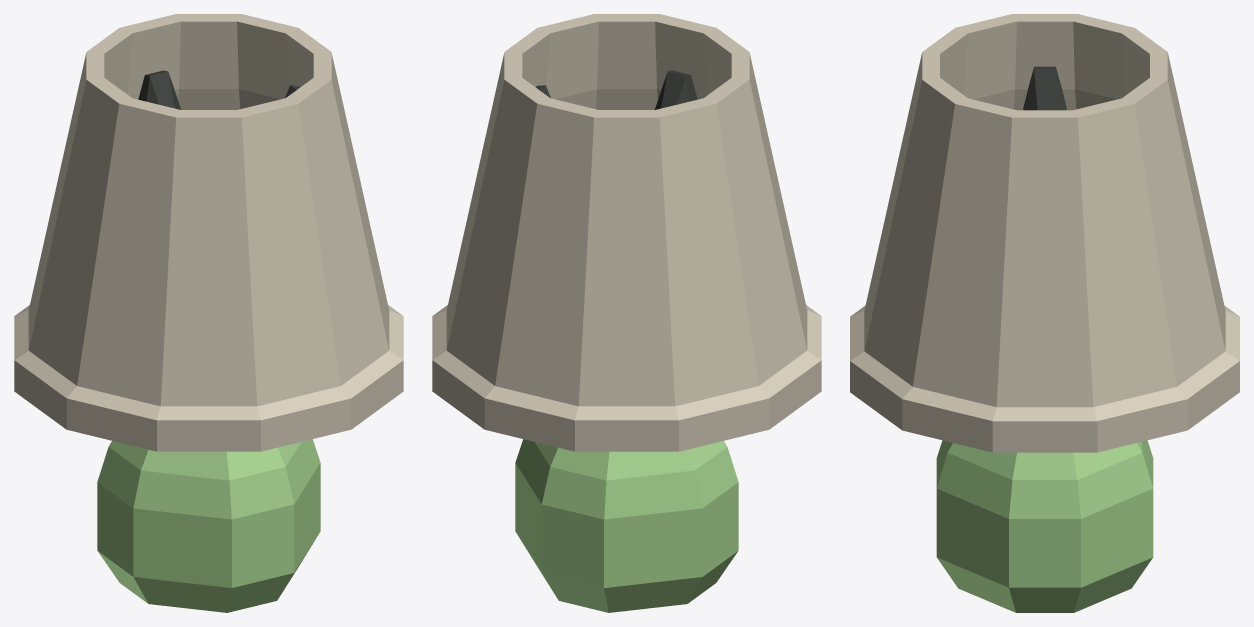
File: lamp.gltf
3 views of the same model, side by side, from view 1: azimuth 30°, elevation 25°; view 2: azimuth 150°, elevation 25°; view 3: azimuth 270°, elevation 25° (orthographic).
Visible parts, largest first — view 1: lampshade, mid, frame; view 2: lampshade, mid, frame; view 3: lampshade, mid, frame.
Boxes of the visible parts, x1,y1,x2,y2 form: lampshade: [14, 14, 403, 451]; mid: [97, 439, 320, 612]; frame: [138, 70, 180, 109]; lampshade: [432, 14, 821, 451]; mid: [515, 439, 738, 612]; frame: [655, 70, 697, 109]; lampshade: [850, 14, 1239, 452]; mid: [936, 440, 1153, 612]; frame: [1023, 66, 1066, 110].
Bounding box in the file's own units: 0.5625 × 0.8125 × 0.5625.
Materials: 1 (1 with a texture image).
